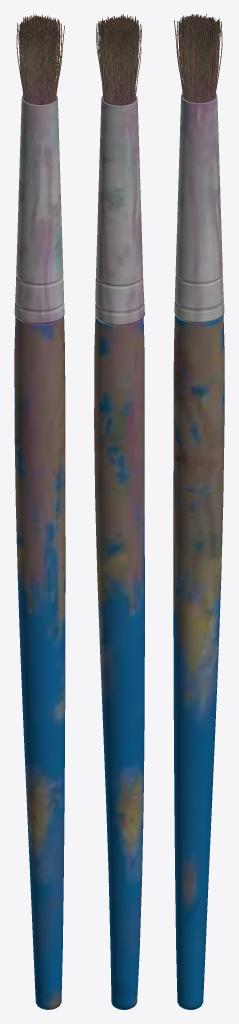
Rendered from paintbrush-2.glb.
The picture shows the model from 3 angles, left to right: view 1: azimuth 90°, elevation 25°; view 2: azimuth 150°, elevation 25°; view 3: azimuth 270°, elevation 25°; orthographic projection.
Visible parts, largest first — view 1: brush_01_mesh_00; view 2: brush_01_mesh_00; view 3: brush_01_mesh_00.
Boxes of the visible parts, x1,y1,x2,y2 form: brush_01_mesh_00: (14, 14, 65, 1009); brush_01_mesh_00: (94, 14, 144, 1009); brush_01_mesh_00: (173, 14, 224, 1009).
Bounding box in the file's own units: 0.0087 × 0.1856 × 0.00872.
3 materials, 3 textured.
